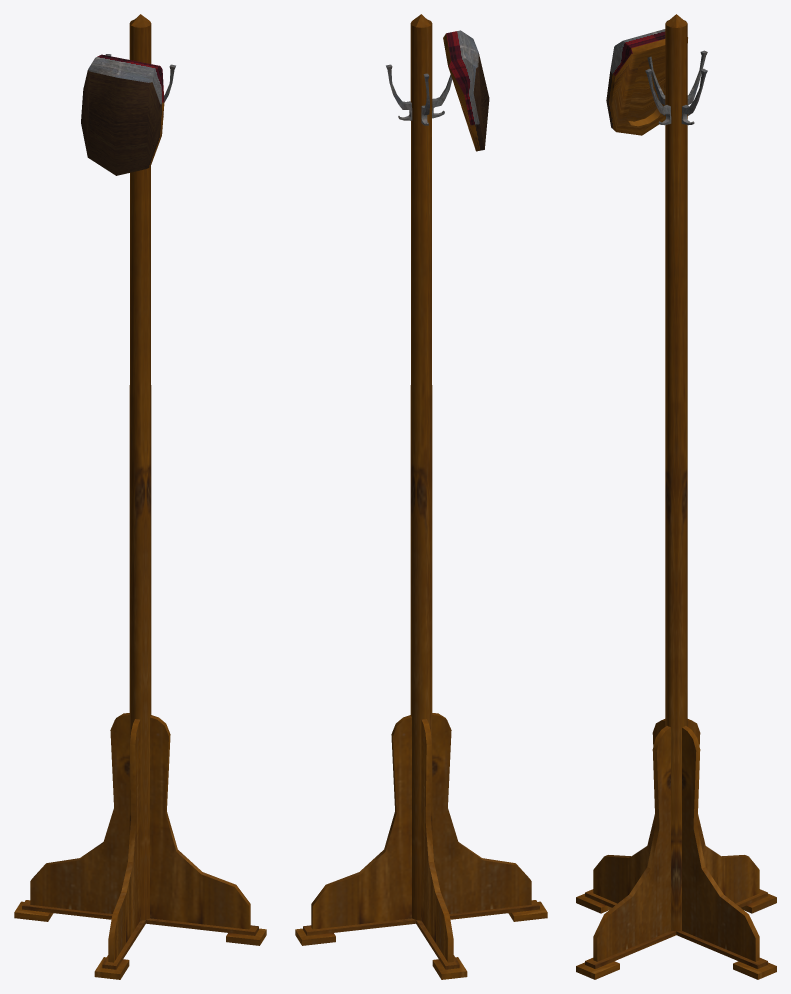
Rendered from SM_PRP_HatAndStand_A_01.fbx.
3 renders of one model, left to right at view 1: azimuth 30°, elevation 25°; view 2: azimuth 150°, elevation 25°; view 3: azimuth 270°, elevation 25°, orthographic.
Visible parts, largest first — view 1: HatStand, FlatCap; view 2: HatStand, FlatCap; view 3: HatStand, FlatCap.
Boxes of the visible parts, x1,y1,x2,y2 form: HatStand: (14, 14, 266, 979); FlatCap: (81, 54, 164, 175); HatStand: (295, 14, 547, 979); FlatCap: (443, 30, 489, 151); HatStand: (576, 14, 776, 979); FlatCap: (606, 29, 687, 135).
Size of the model in its own units: 34.58 by 34.58 by 175.
